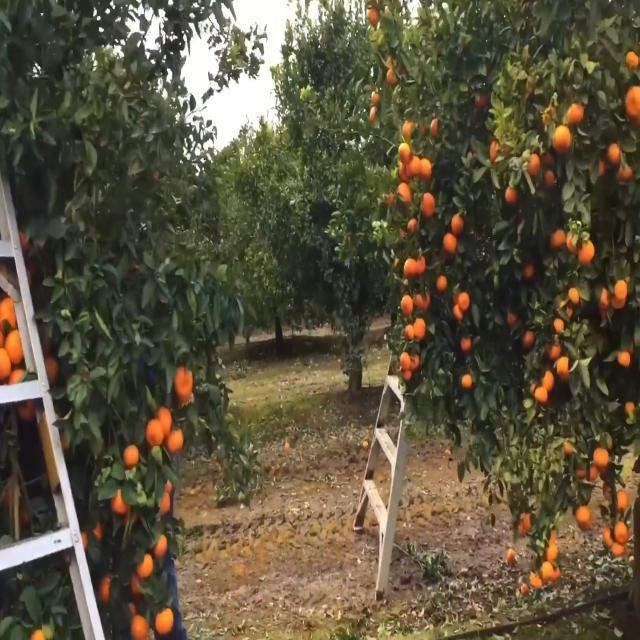Jeruk Sudah Matang: (623, 78, 640, 119), (551, 124, 573, 152), (574, 236, 594, 266), (573, 500, 592, 530), (440, 228, 460, 256), (593, 442, 611, 473), (548, 226, 568, 252), (613, 276, 630, 306), (394, 140, 414, 164), (418, 192, 436, 218), (532, 384, 550, 407), (450, 209, 466, 234), (402, 258, 420, 280), (399, 293, 415, 317), (616, 347, 632, 370), (399, 350, 412, 378), (540, 370, 556, 392), (504, 184, 519, 207), (413, 316, 427, 340), (458, 290, 470, 314), (460, 372, 474, 388)
